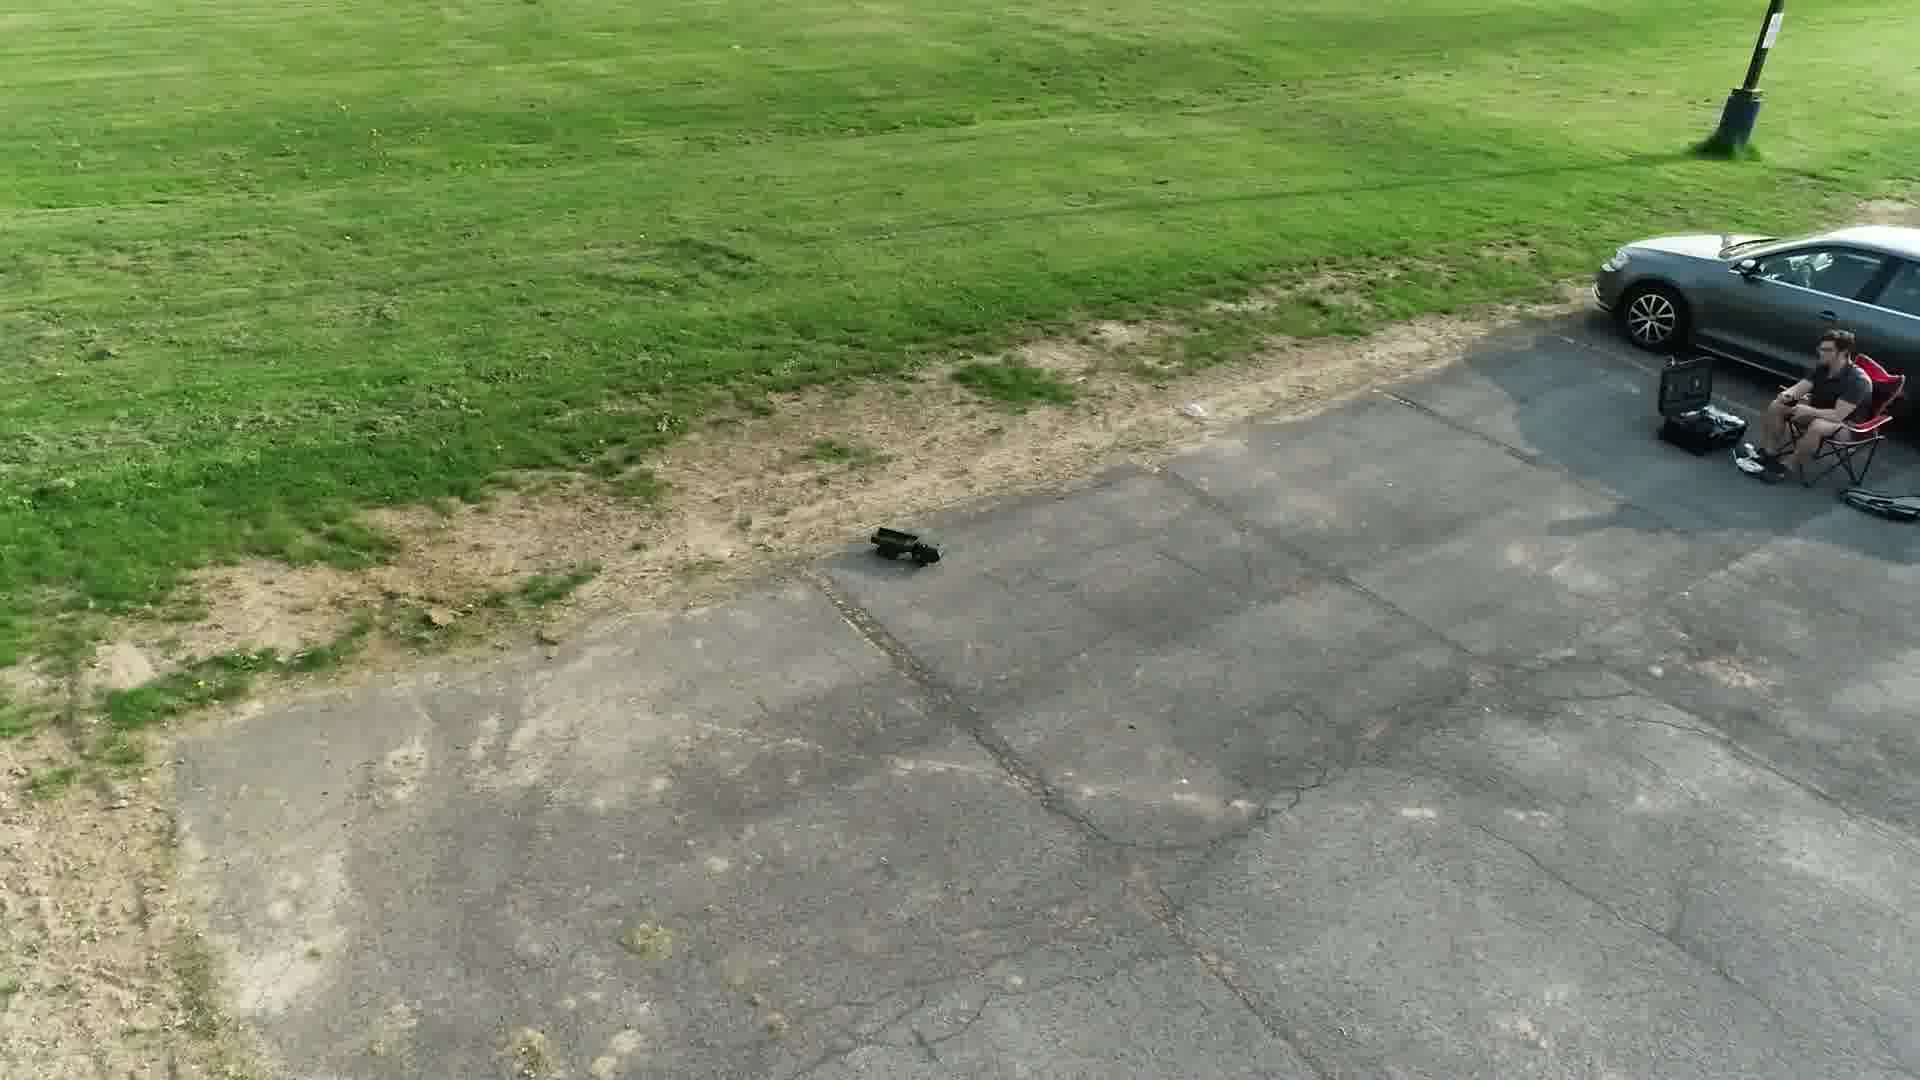transporter9: (868, 522, 953, 568)
